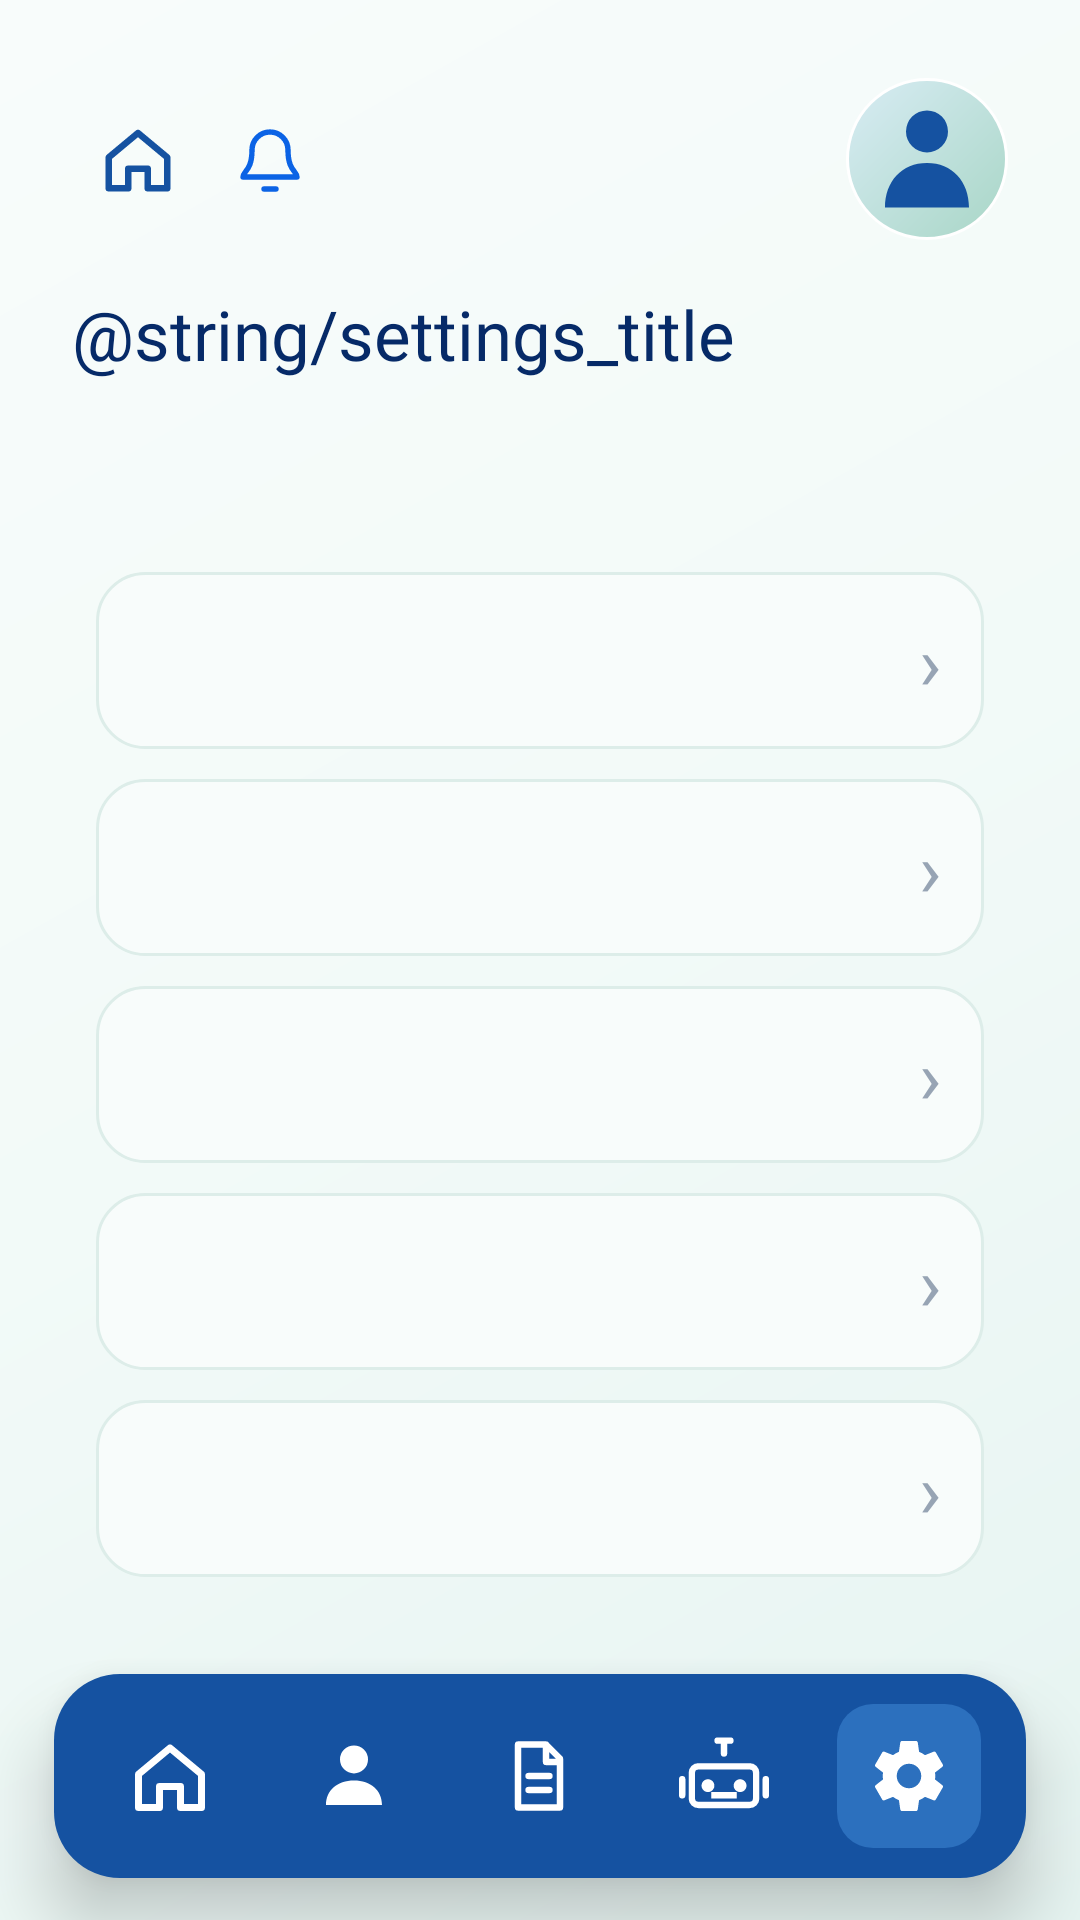

Screen size 1080*1920. Icon name, then its center in pixels as (x=x, y=y):
Assistente: (x=724, y=1773)
Configurações: (x=909, y=1776)
Documentos: (x=539, y=1776)
Início: (x=138, y=160), (x=170, y=1777)
